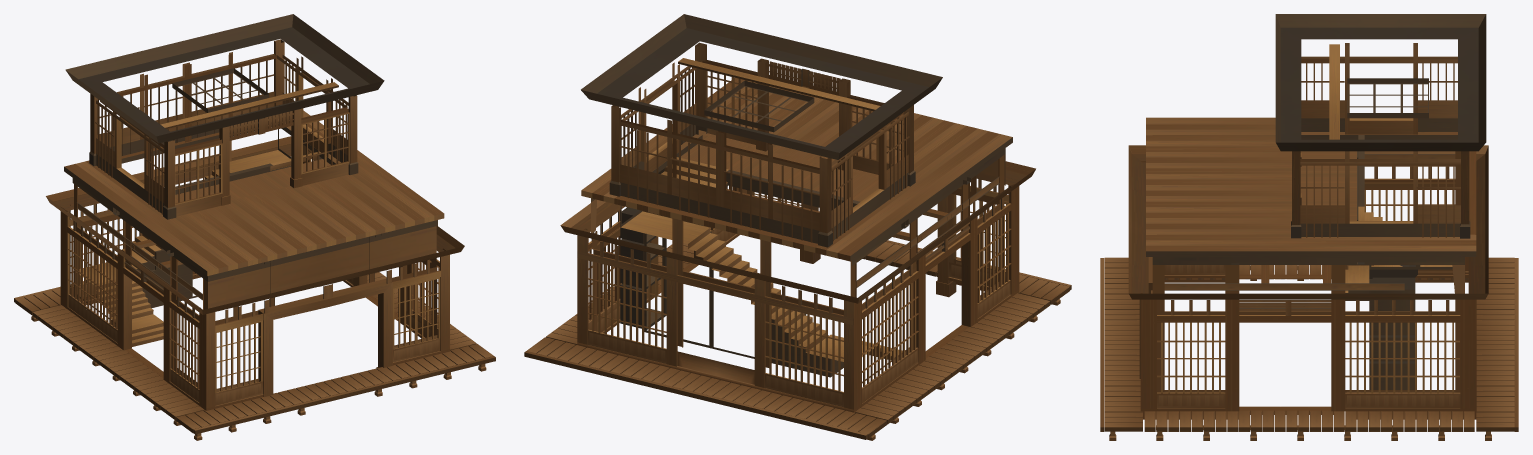
Rendered from SK_House_wood_001.FBX.
3 views of the same model, side by side, from view 1: azimuth 30°, elevation 25°; view 2: azimuth 150°, elevation 25°; view 3: azimuth 270°, elevation 25° (orthographic). The views are drawn at different scales.
Visible parts, largest first — view 1: SK_House_wood_001; view 2: SK_House_wood_001; view 3: SK_House_wood_001.
Part boxes in pixels (<box>): SK_House_wood_001: <box>14,14,495,440</box>; SK_House_wood_001: <box>524,14,1071,440</box>; SK_House_wood_001: <box>1100,14,1518,440</box>.
Bounding box in the file's own units: 882 × 683 × 919.
